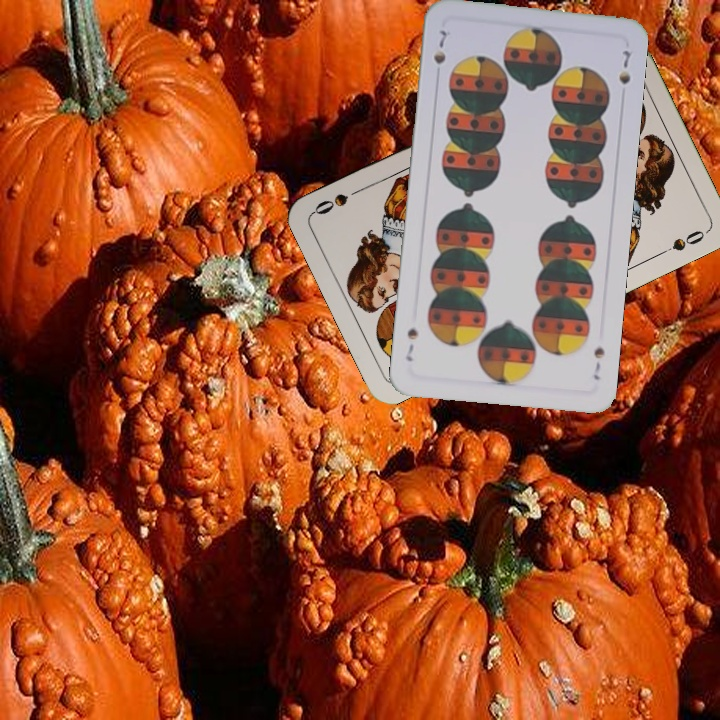S7: (429, 26, 449, 67), (589, 342, 608, 383)
